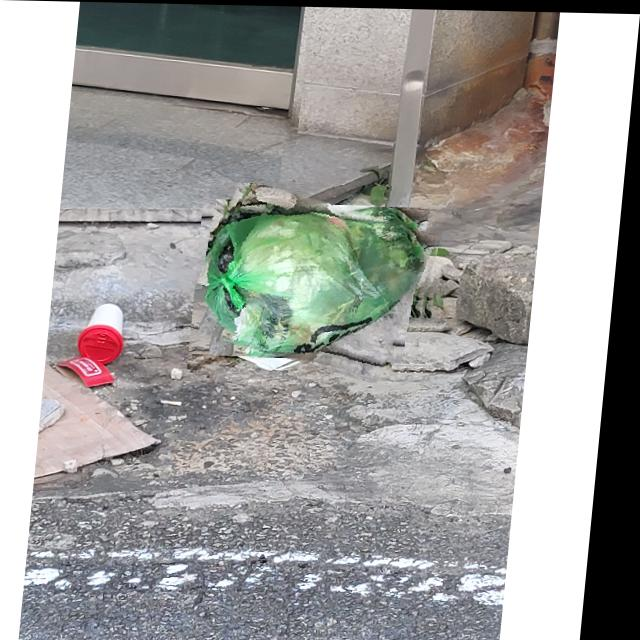general_trashbag: (198, 182, 443, 381)
